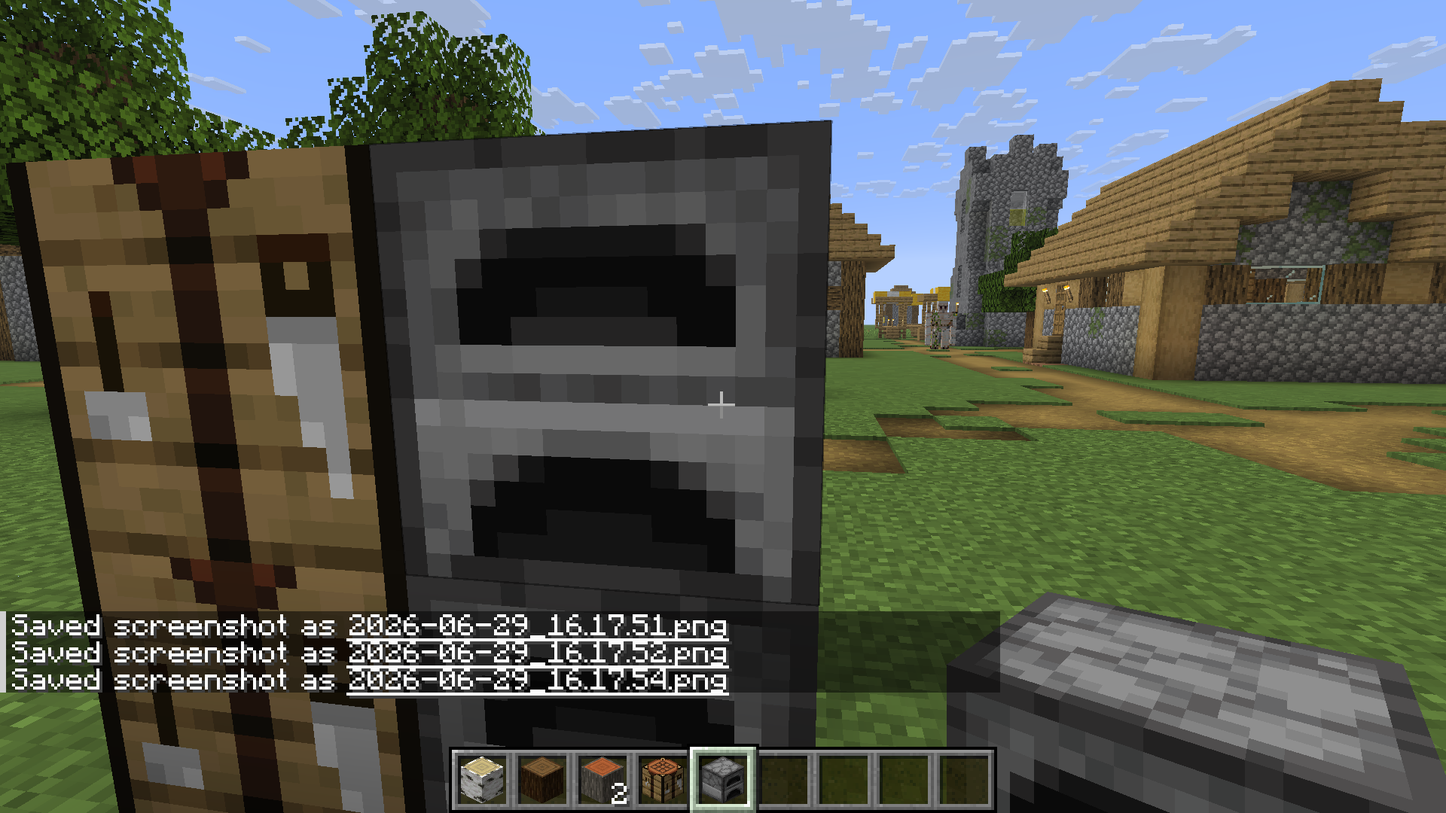stove: (374, 143, 831, 606)
